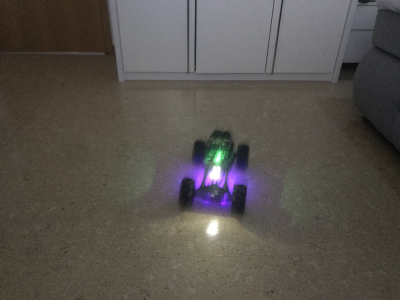remote control car: (178, 125, 251, 217)
